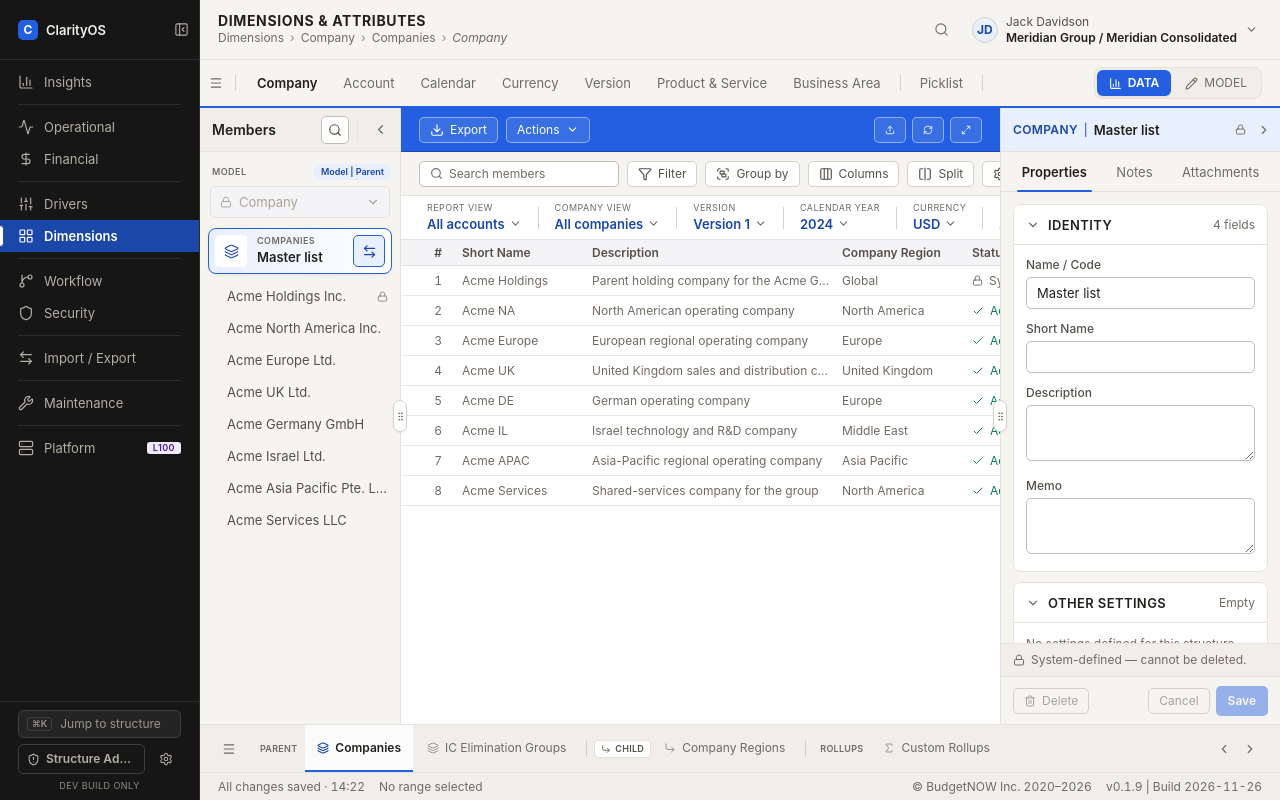
Test case: Company Regions · child structure › a blank description reads Not supplied, never a dash
Click the button "MODEL".
click(1216, 83)  # box [1173,70,1259,96]
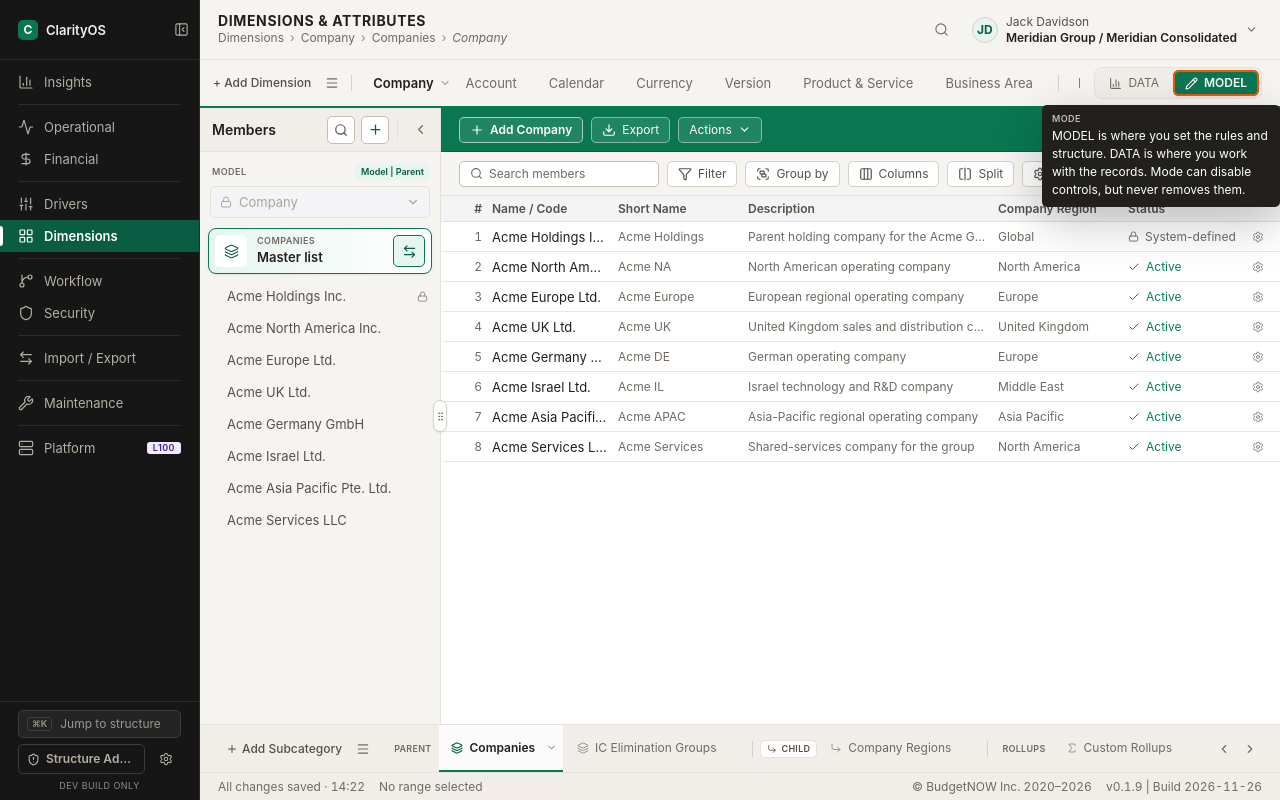
Click the button named "Add Company".
click(375, 130)  # box [361,116,389,144]
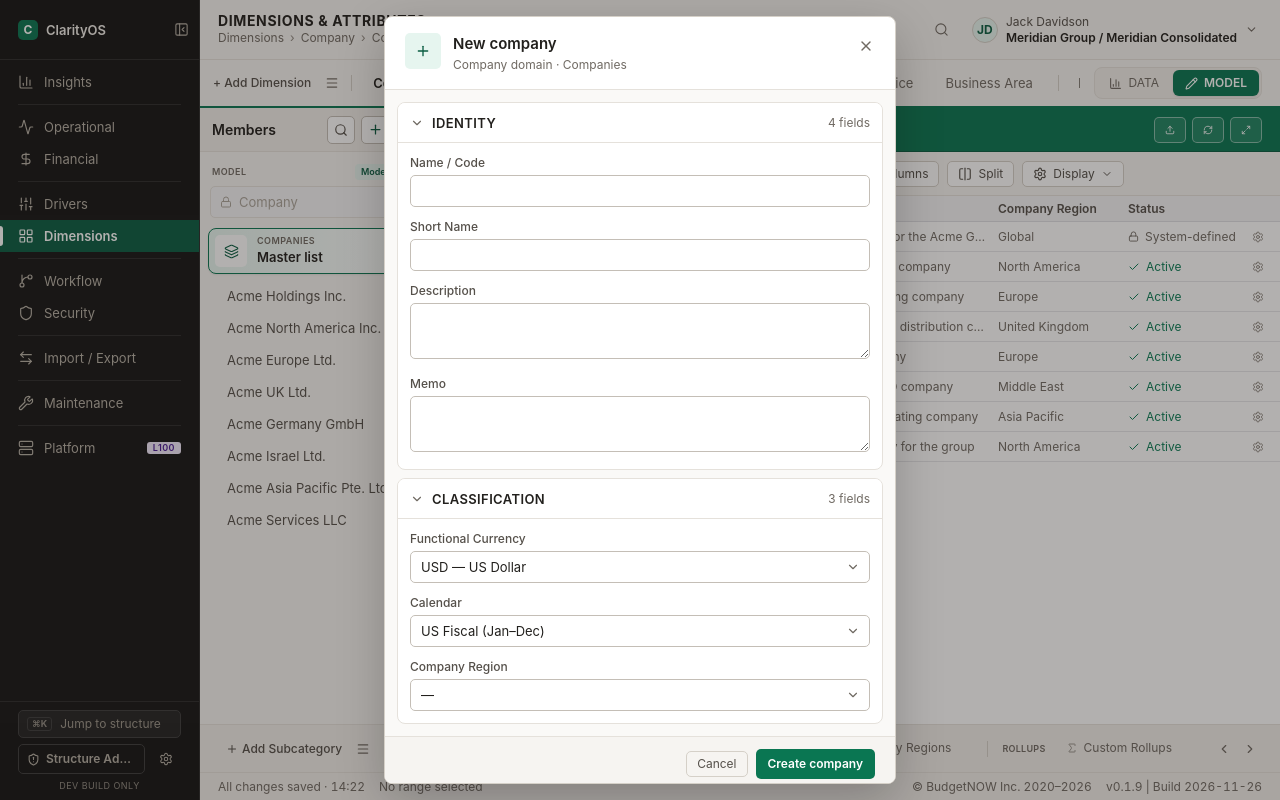
Type "Acme France SAS" into the field labelled "Name / Code".
click(640, 191); type("Acme France SAS")  # box [410,175,870,207]
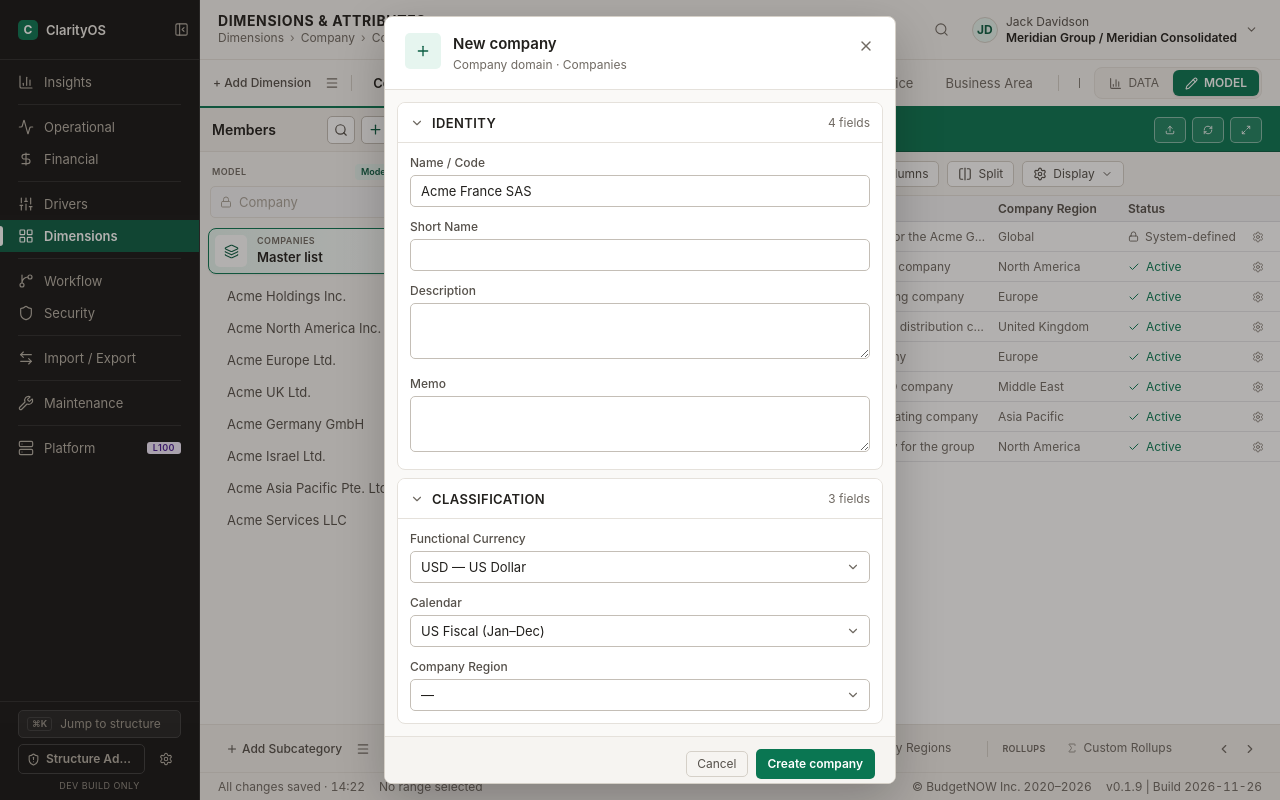
Click the button "Create company".
click(815, 764)  # box [756,749,875,779]
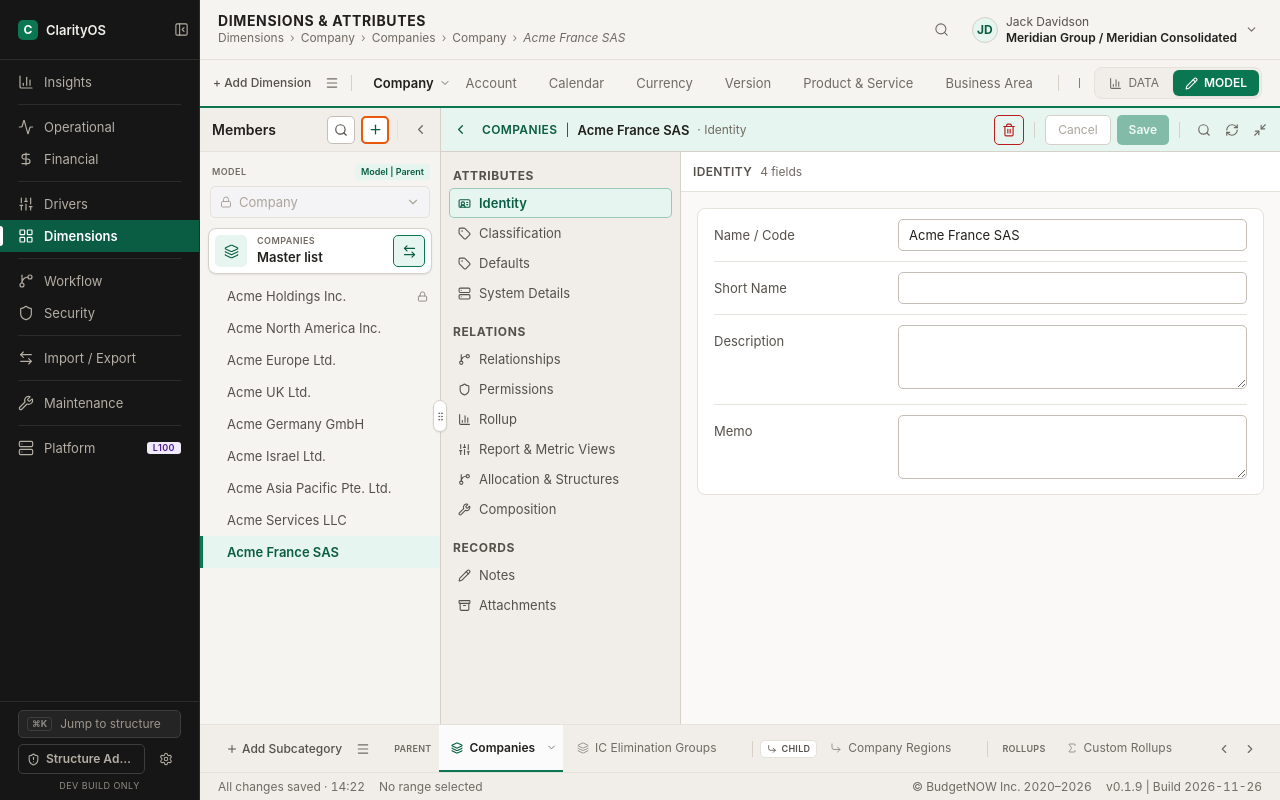
Click the button "Companies Master list".
click(299, 251)  # box [209,229,389,273]
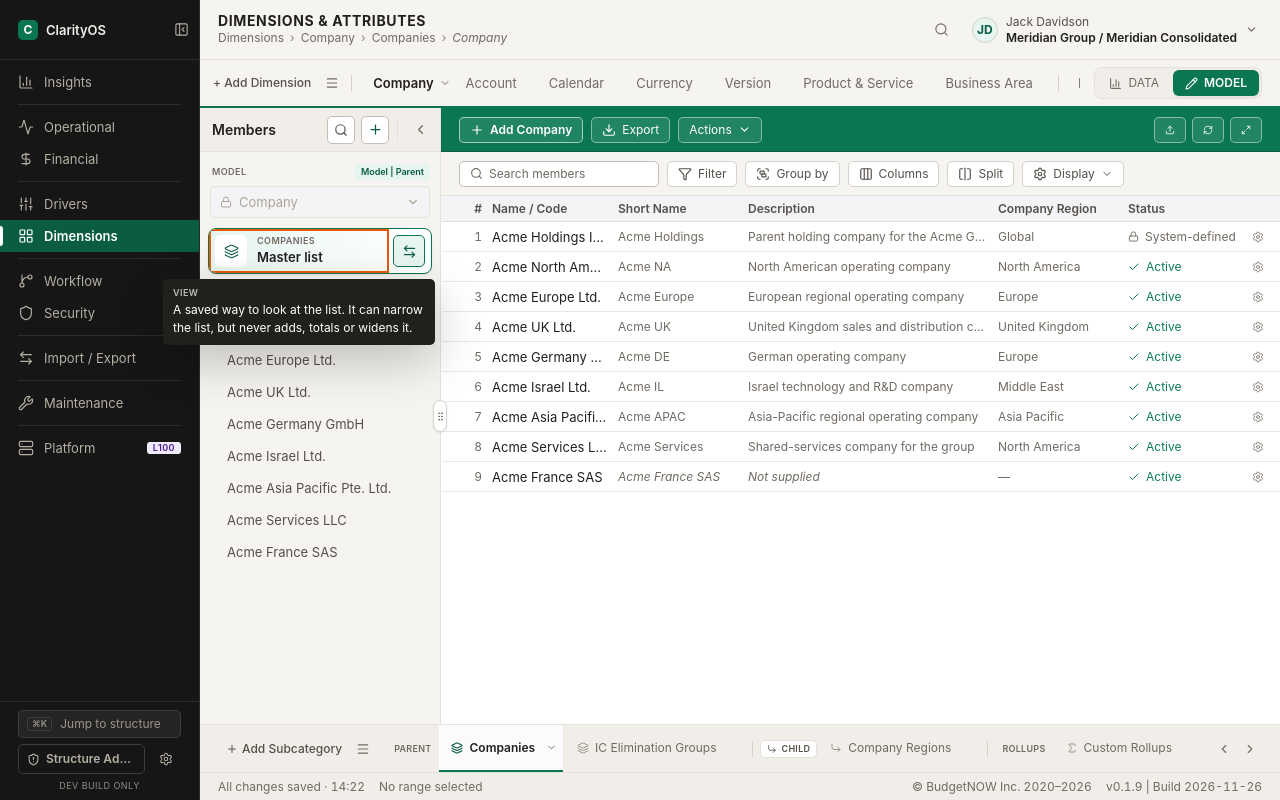
expect the list item "9 Acme France SAS" is shown: met, box [441,462,1279,492]
